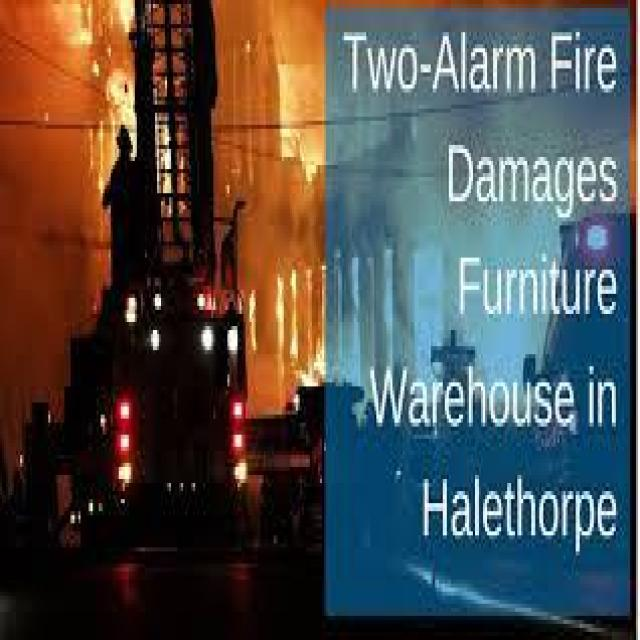fire: (96, 32, 320, 431)
